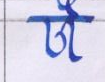ai_matra: (56, 0, 82, 16)
